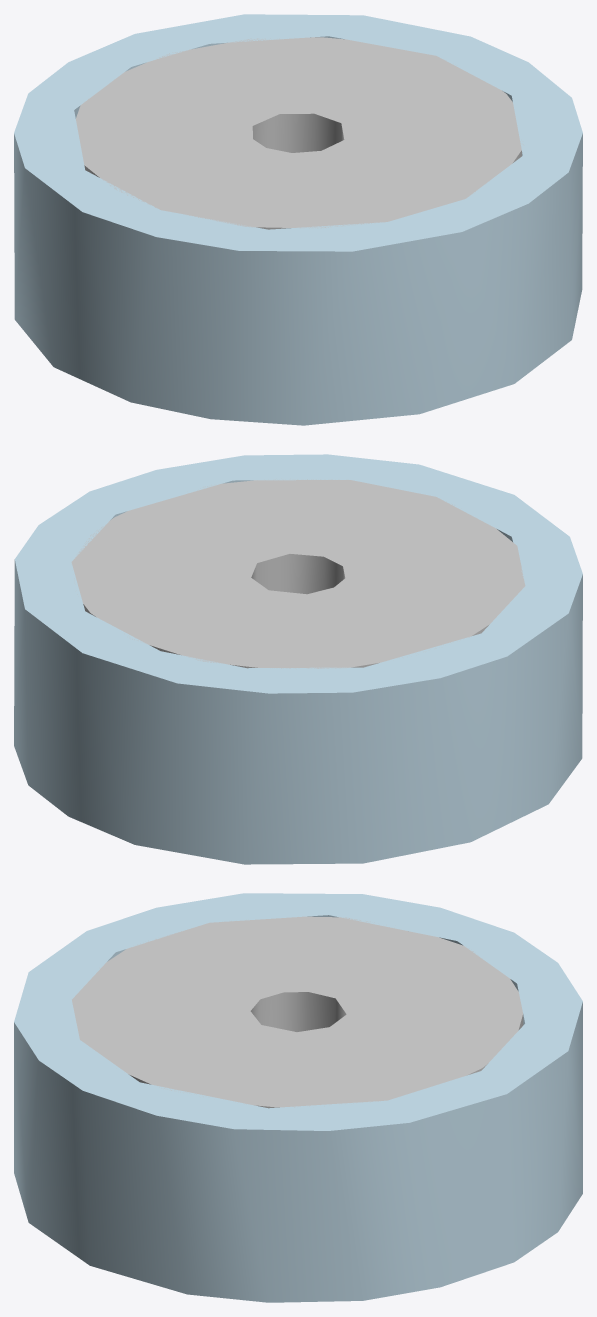
The model's file is ThreeInStealth.fbx.
3 renders of one model, top to bottom at view 1: azimuth 30°, elevation 25°; view 2: azimuth 150°, elevation 25°; view 3: azimuth 270°, elevation 25°, orthographic.
Visible parts, largest first — view 1: Part 1, Part 2; view 2: Part 1, Part 2; view 3: Part 1, Part 2.
Boxes of the visible parts, x1,y1,x2,y2 form: Part 1: (14, 14, 582, 425); Part 2: (76, 37, 523, 229); Part 1: (14, 454, 582, 864); Part 2: (71, 479, 525, 668); Part 1: (14, 893, 582, 1302); Part 2: (72, 916, 523, 1108).
Bounding box in the file's own units: 7.62 × 2.54 × 7.63.
